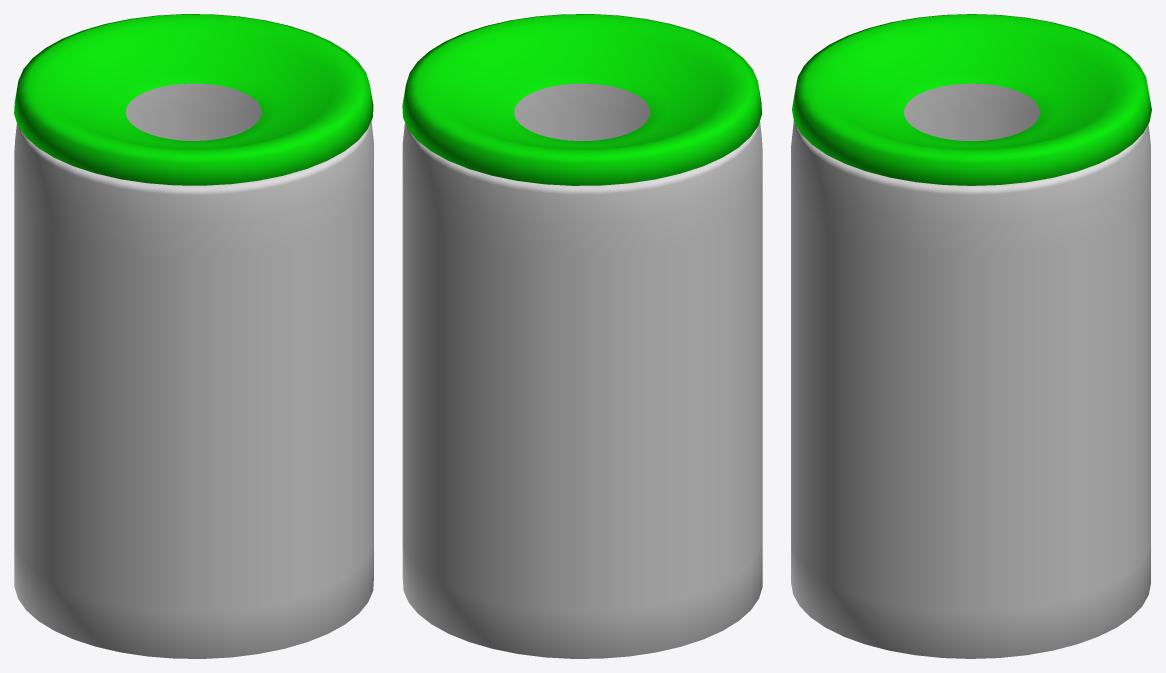
File: Bin.fbx
The picture shows the model from 3 angles, left to right: view 1: azimuth 30°, elevation 25°; view 2: azimuth 150°, elevation 25°; view 3: azimuth 270°, elevation 25°; orthographic projection.
Visible parts, largest first — view 1: Bin_Base, Bin_Lid; view 2: Bin_Base, Bin_Lid; view 3: Bin_Base, Bin_Lid.
Part boxes in pixels (x1,y1,x2,y2): Bin_Base: [14, 83, 373, 658]; Bin_Lid: [14, 14, 373, 185]; Bin_Base: [402, 83, 762, 658]; Bin_Lid: [402, 14, 762, 185]; Bin_Base: [791, 83, 1150, 658]; Bin_Lid: [792, 14, 1151, 185].
Bounding box in the file's own units: 29.64 × 46.05 × 29.71.
